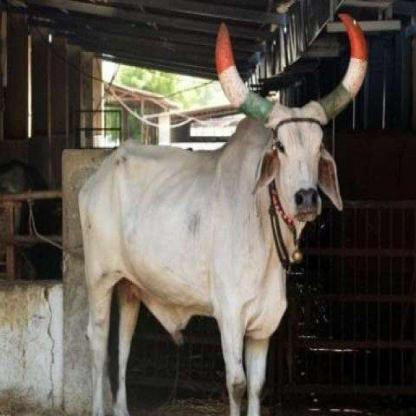cow: (79, 106, 341, 416)
